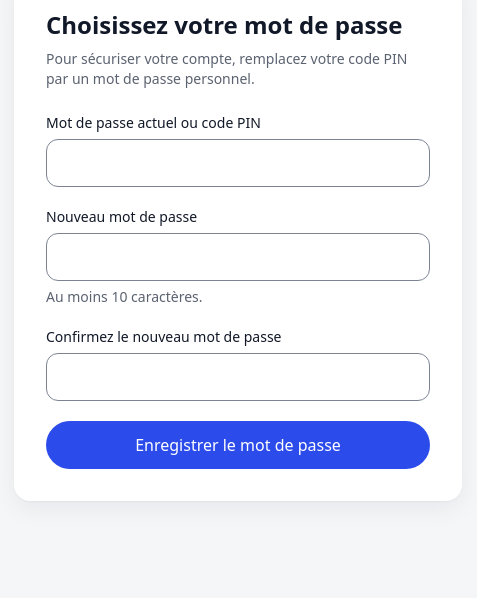
it: ChangePasswordForm (fr) › requires every field and moves focus to the first one
Click the button "Enregistrer le mot de passe".
click(238, 445)  # box [46,421,430,469]
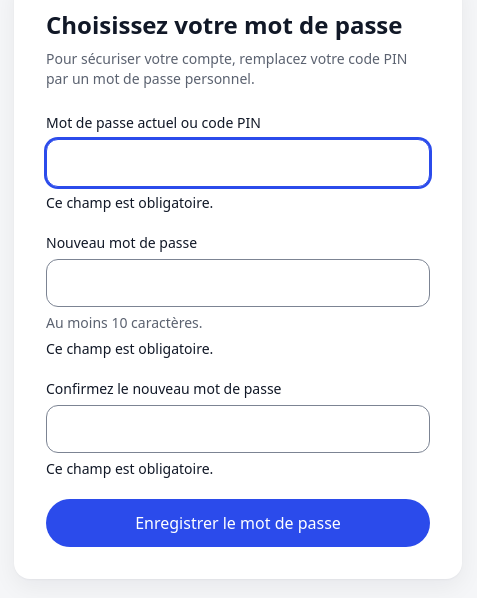
Expected: the text "Ce champ est obligatoire." is shown 3 times, [46,193,213,212]; [46,339,213,358]; [46,459,213,478]
